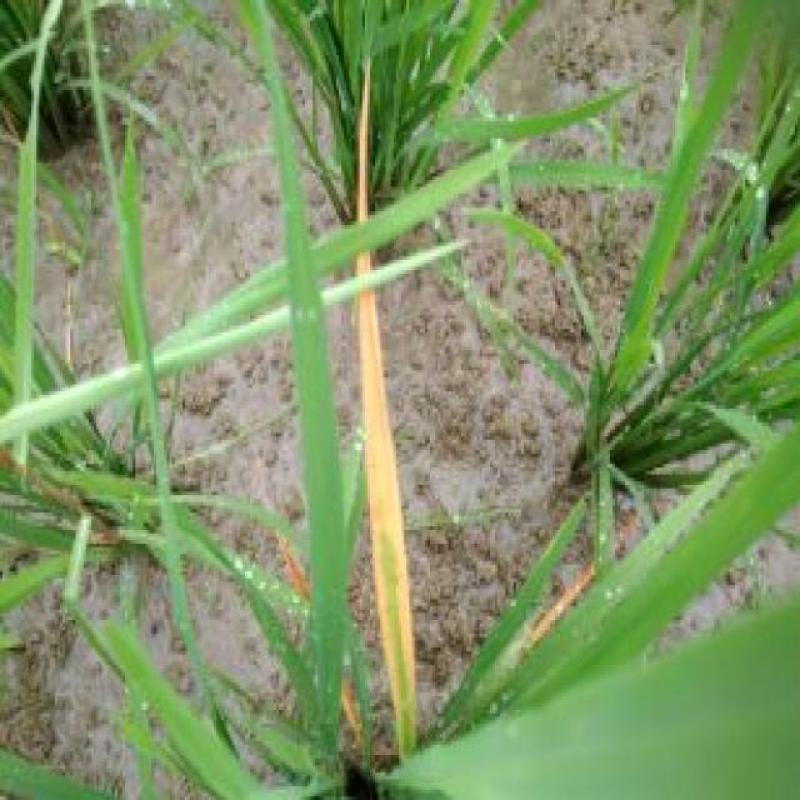Rice Tungro: (346, 74, 429, 800)
